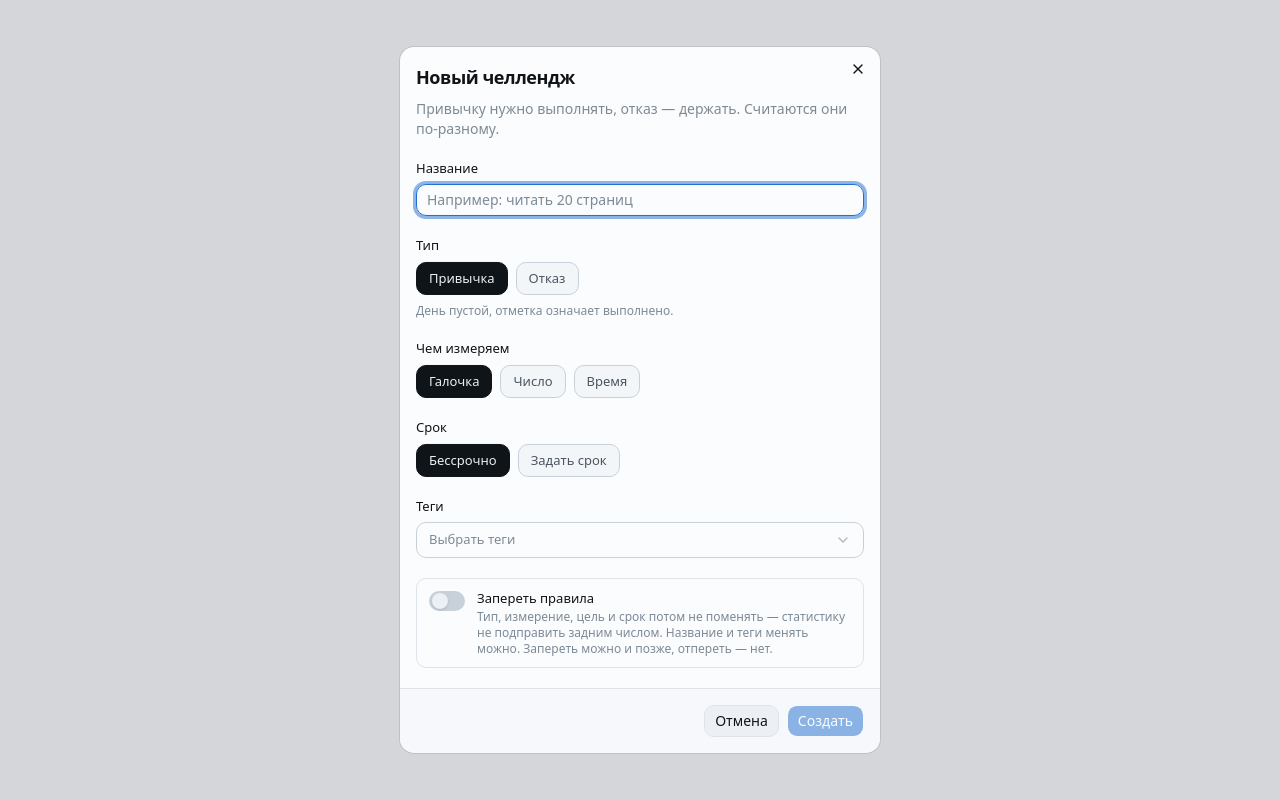
Test: форма нового челленджа › у отказа измерение не спрашивается — отказ всегда галочка
Type "Без сигарет" into the field labelled "Название" at (640, 200), box [416,184,864,216]
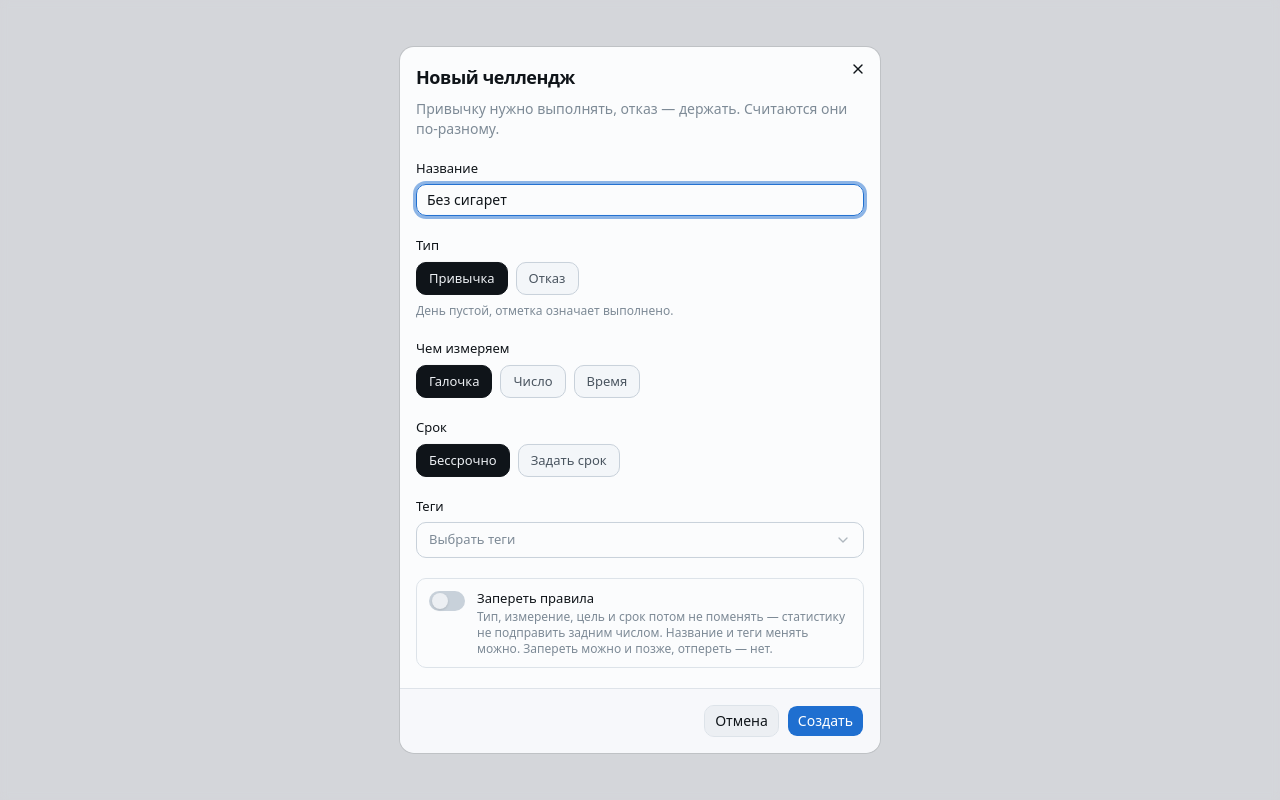
Click the button "Отказ" at (547, 278), box [516,262,578,295]
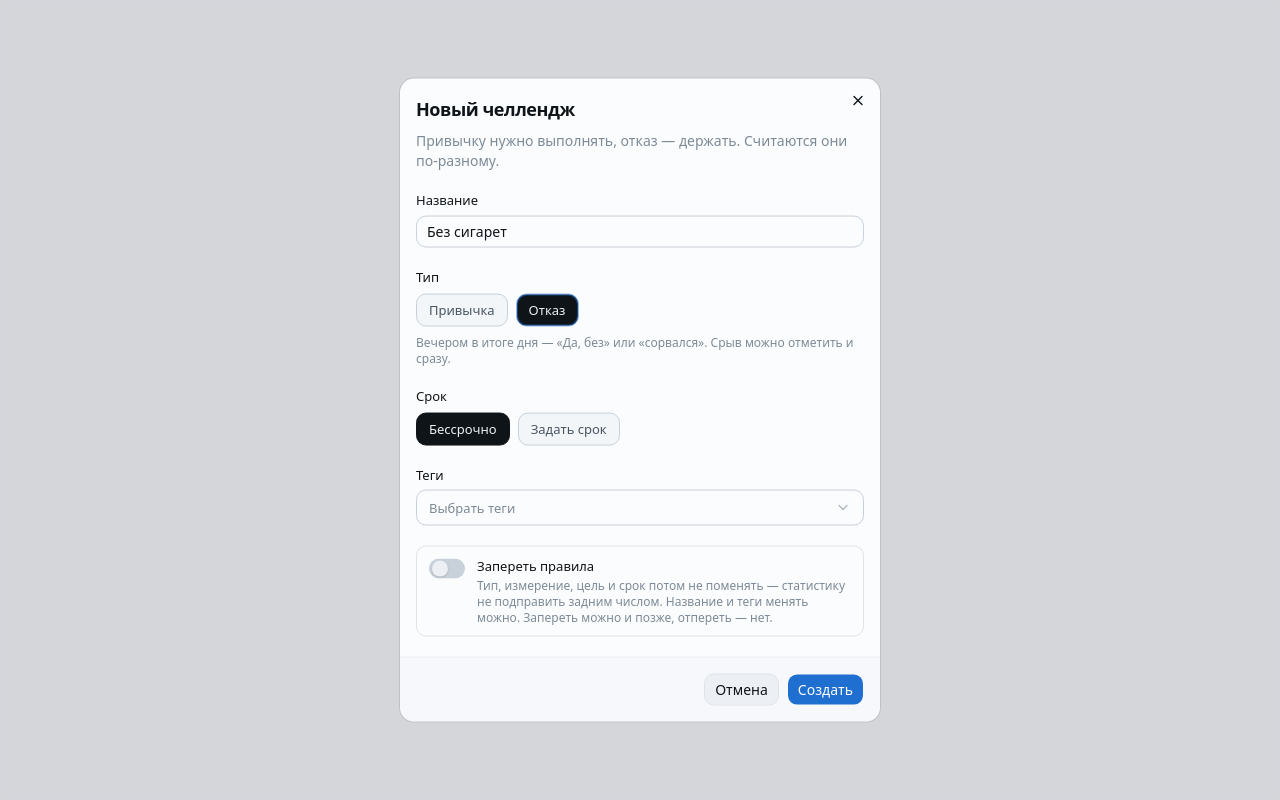
Now the button "Число" is gone
